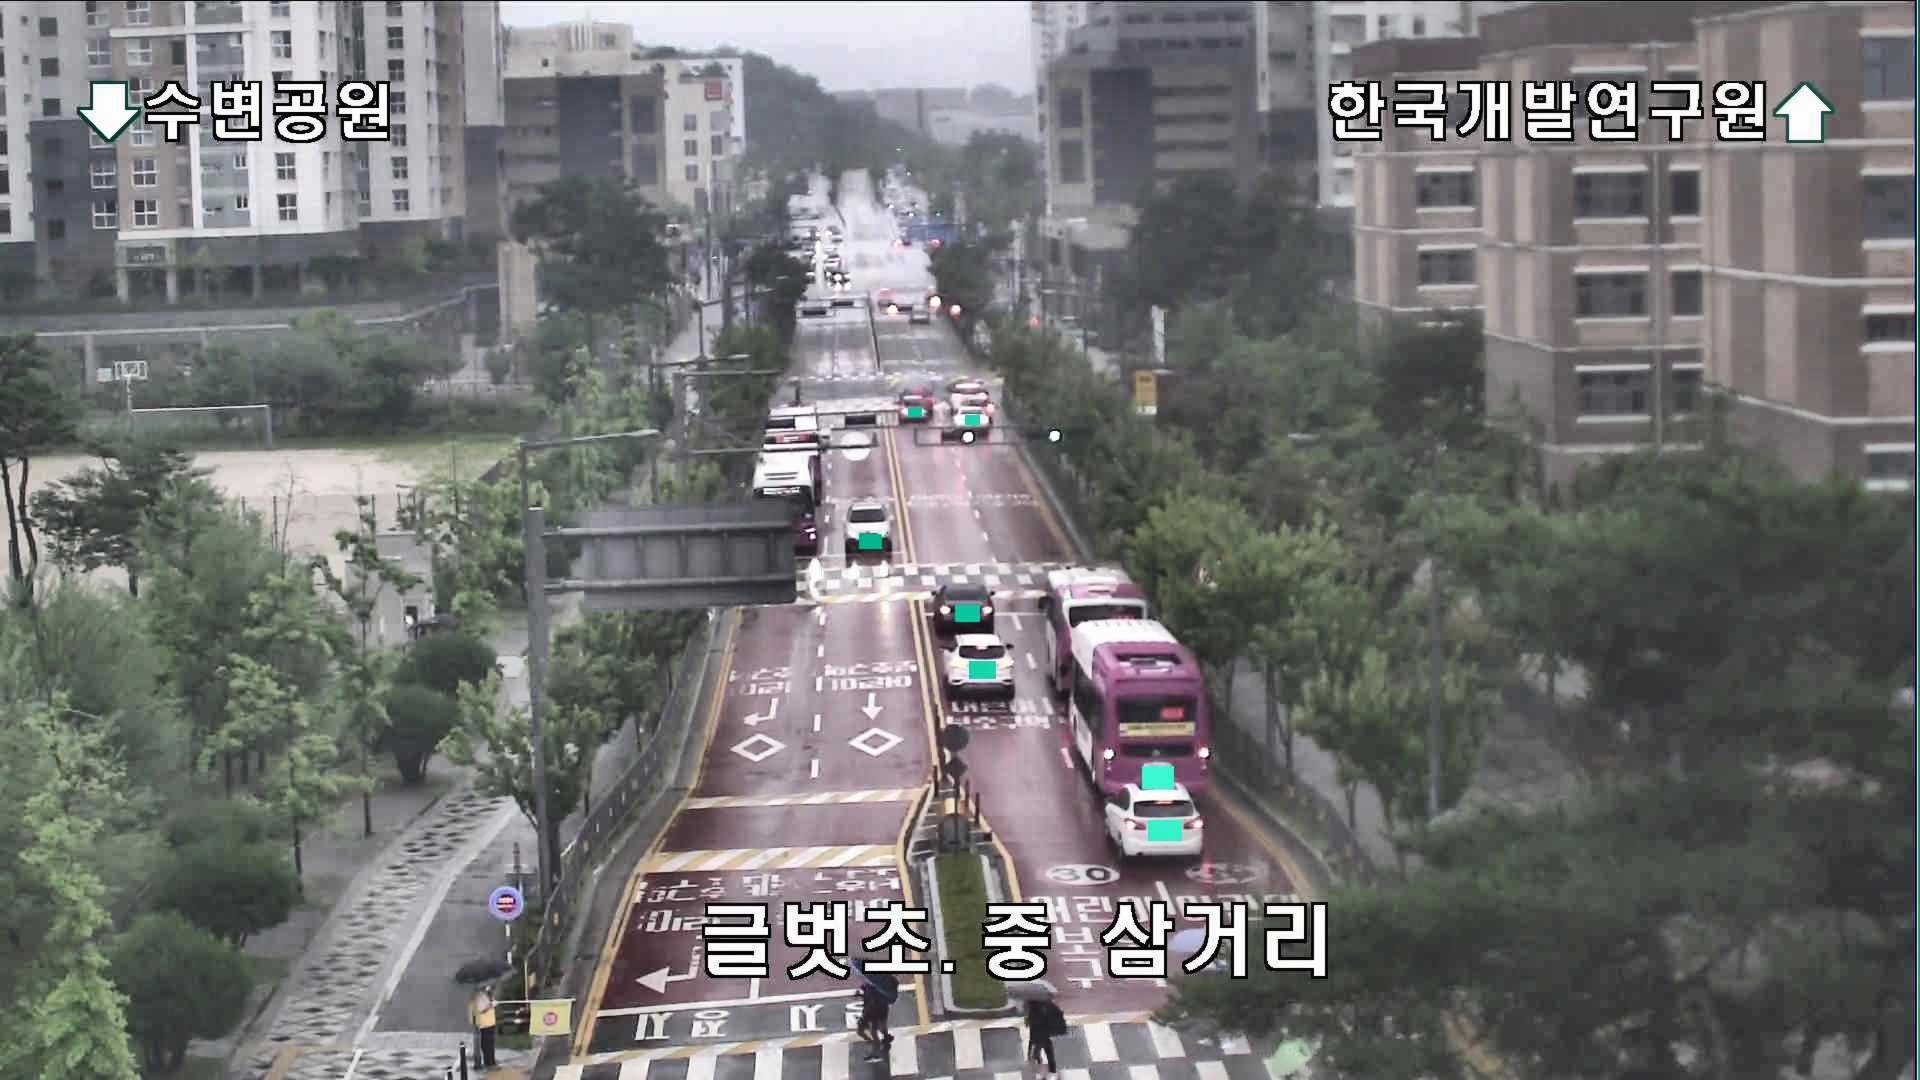um_crosswalk: (1005, 976, 1069, 1077), (845, 952, 901, 1062)
um_sidewalk: (454, 955, 518, 1069)
